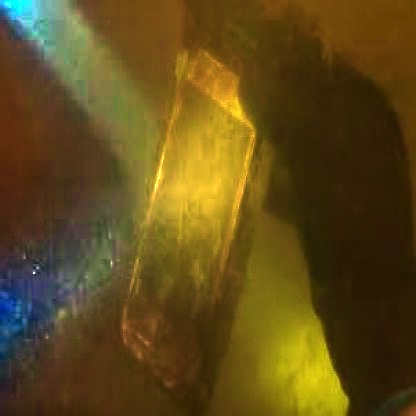cellphone: (124, 47, 264, 398)
